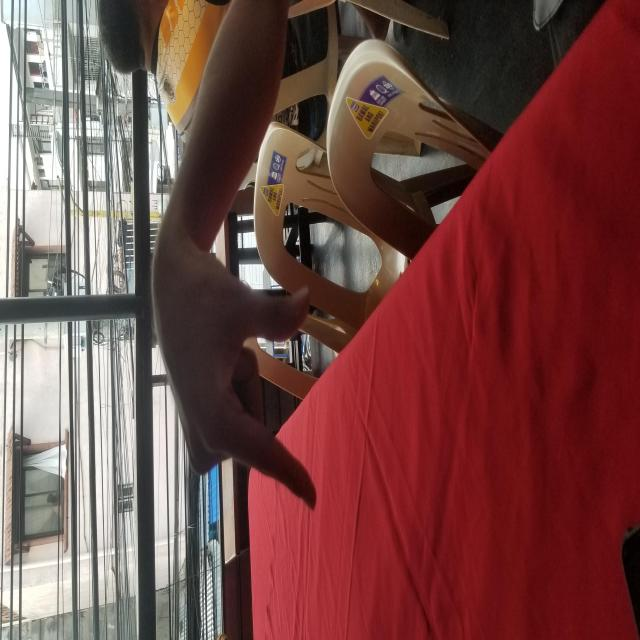Q: (124, 148, 364, 552)
